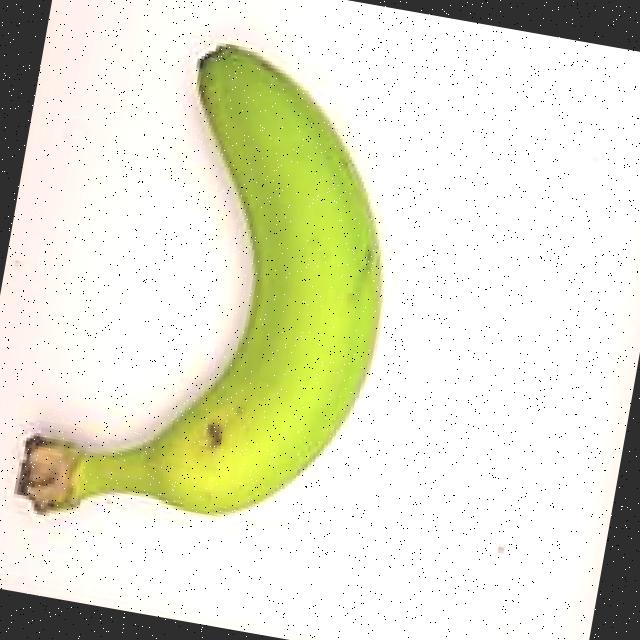Unripe: (0, 0, 467, 586)
